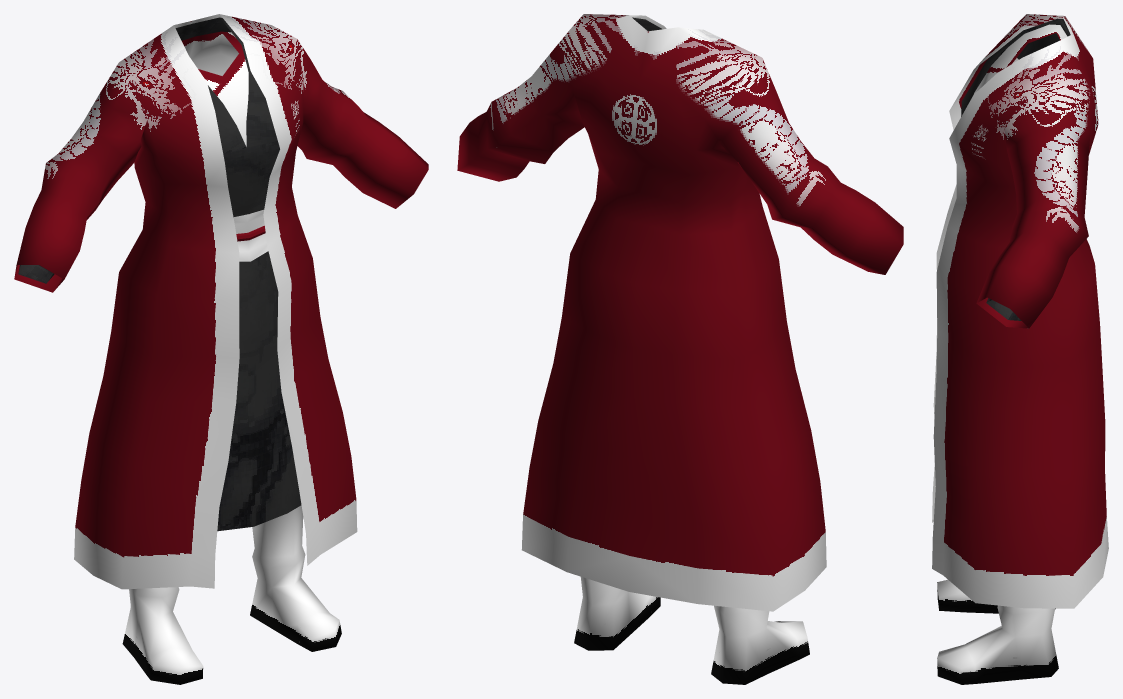
The model's file is mantoTexturasMaterial.glb.
3 views of the same model, side by side, from view 1: azimuth 30°, elevation 25°; view 2: azimuth 150°, elevation 25°; view 3: azimuth 270°, elevation 25° (orthographic). The views are drawn at different scales.
Visible parts, largest first — view 1: mantoAnciao; view 2: mantoAnciao; view 3: mantoAnciao.
Boxes of the visible parts, box(x1,y1,x2,y2) form: mantoAnciao: box(14, 14, 428, 684); mantoAnciao: box(457, 14, 903, 684); mantoAnciao: box(932, 14, 1108, 684).
Size of the model in its own units: 0.4862 by 0.6794 by 0.1781.
Materials: 4 (4 with a texture image).
